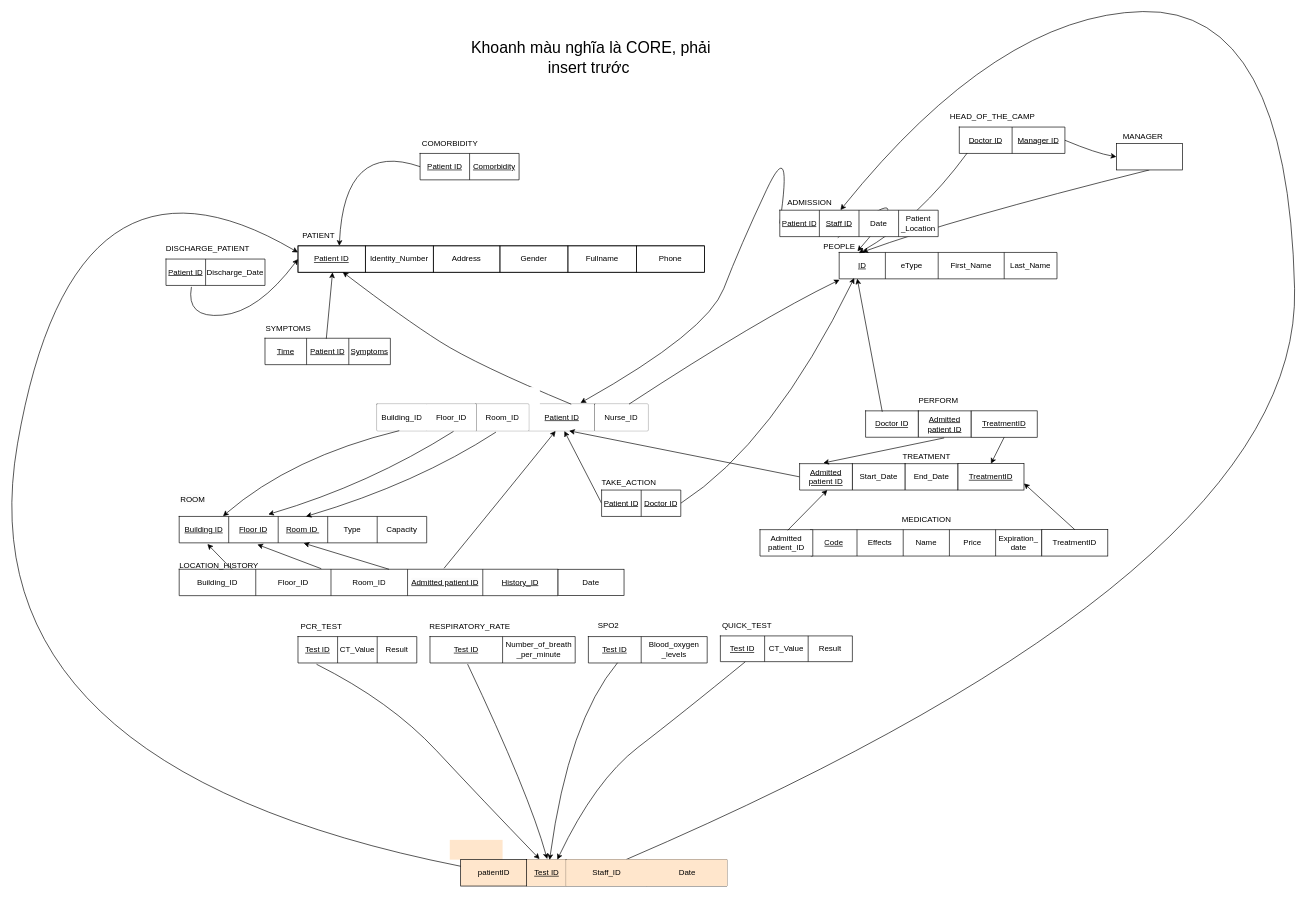
Some shapes in this 1306 by 898 pixel diagram are drawn without their labels. Each missing label, with the centre of its shape:
ADMITTED_PATIENT: (x=493, y=397)
ManagerID: (x=1149, y=156)
TESTING: (x=475, y=849)
